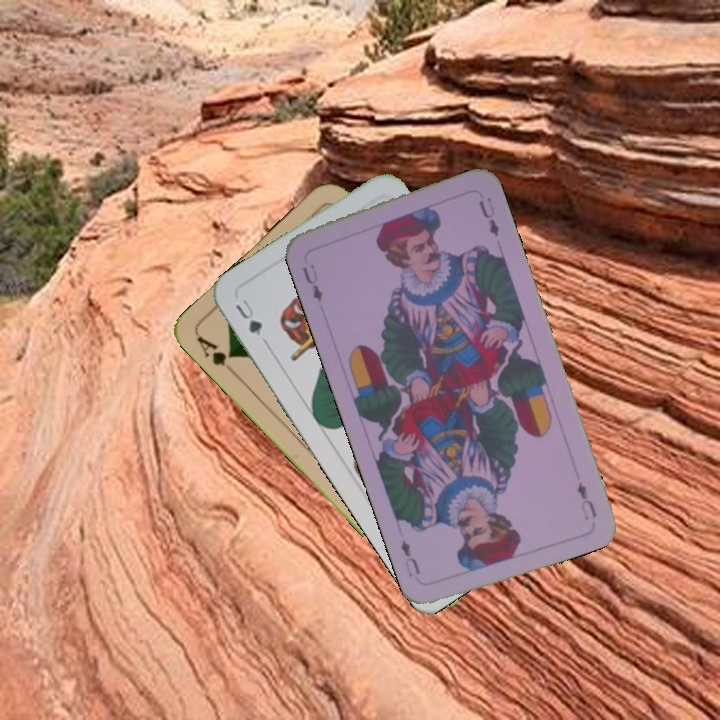EU: (298, 260, 325, 305), (573, 478, 599, 523)
GA: (192, 332, 240, 379)
GU: (231, 295, 265, 339)
